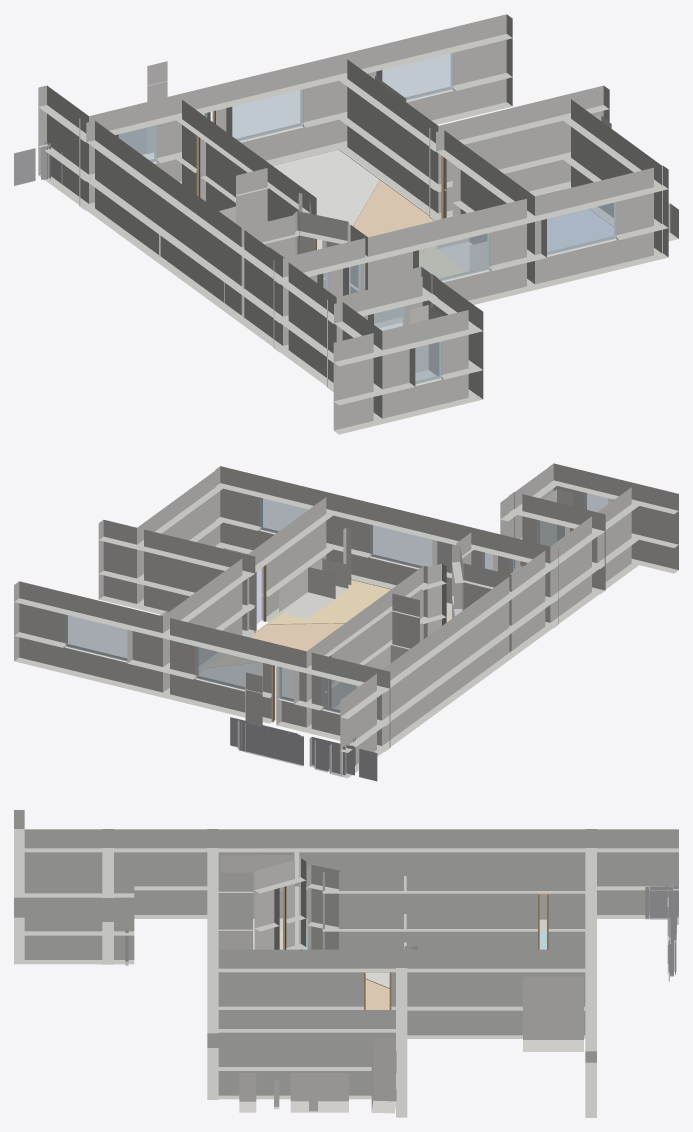
3 renders of one model, top to bottom at view 1: azimuth 30°, elevation 25°; view 2: azimuth 150°, elevation 25°; view 3: azimuth 270°, elevation 25°, orthographic. The views are drawn at different scales.
Visible parts, largest first — view 1: walls, floor_1_Undefined, window_5, window_2, floor_2_Living_Room, window_1, window_4, floor_5_Bed_Room, railings, furniture_4_closet, window_3, window_0 (+2 smaller); view 2: walls, railings, furniture_7_appliance, floor_3_Kitchen, window_4, window_1, floor_2_Living_Room, window_5, floor_1_Undefined, window_2, furniture_4_closet, window_0 (+4 smaller); view 3: walls, furniture_0_closet, furniture_6_appliance, furniture_1_closet, railings, furniture_2_closet, furniture_10_appliance, floor_2_Living_Room, furniture_11_appliance.
Boxes of the visible parts, <box> form: walls: <box>38,14,668,434</box>; floor_1_Undefined: <box>272,149,379,249</box>; window_5: <box>232,89,303,140</box>; window_2: <box>547,202,616,255</box>; floor_2_Living_Room: <box>353,179,435,253</box>; window_1: <box>419,233,490,280</box>; window_4: <box>382,53,453,99</box>; floor_5_Bed_Room: <box>447,189,613,251</box>; railings: <box>14,128,146,185</box>; furniture_4_closet: <box>410,305,443,380</box>; window_3: <box>413,338,442,383</box>; window_0: <box>117,125,157,162</box>; walls: <box>14,463,678,778</box>; railings: <box>230,717,377,781</box>; furniture_7_appliance: <box>279,567,335,619</box>; floor_3_Kitchen: <box>267,579,451,624</box>; window_4: <box>65,615,127,660</box>; window_1: <box>370,525,434,567</box>; floor_2_Living_Room: <box>207,623,344,667</box>; window_5: <box>195,646,260,689</box>; floor_1_Undefined: <box>199,662,293,720</box>; window_2: <box>260,496,309,532</box>; furniture_4_closet: <box>540,489,573,546</box>; window_0: <box>322,676,356,712</box>; walls: <box>14,810,678,1117</box>; furniture_0_closet: <box>523,976,583,1051</box>; furniture_6_appliance: <box>290,1073,348,1112</box>; furniture_1_closet: <box>371,1037,396,1113</box>; railings: <box>125,885,678,981</box>; furniture_2_closet: <box>220,855,293,930</box>; furniture_10_appliance: <box>239,1073,256,1112</box>; floor_2_Living_Room: <box>365,978,389,1009</box>; furniture_11_appliance: <box>219,931,251,949</box>.
Bounding box in the file's own units: 15.02 × 2.72 × 19.
